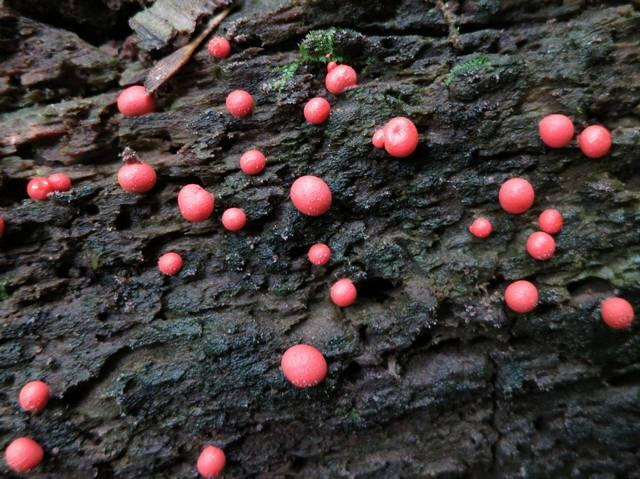poisonous_mushroom: (449, 210, 560, 262), (299, 235, 357, 312), (220, 148, 263, 246), (11, 158, 77, 196), (279, 342, 328, 388), (288, 174, 332, 216), (176, 182, 214, 222), (3, 435, 43, 473), (382, 115, 418, 157), (497, 176, 535, 214), (149, 240, 188, 277), (537, 112, 574, 148), (116, 160, 156, 193), (115, 84, 156, 116), (599, 295, 634, 330), (577, 123, 612, 158), (503, 279, 539, 313), (17, 378, 49, 413), (323, 62, 357, 94), (195, 444, 225, 478), (224, 88, 255, 119), (302, 96, 330, 124), (206, 35, 231, 59)
